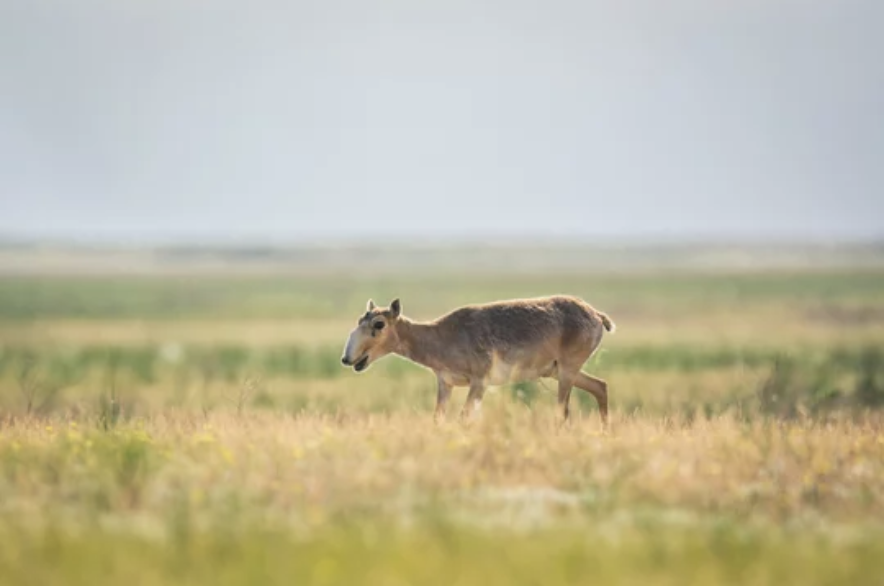saiga: (342, 282, 663, 433)
